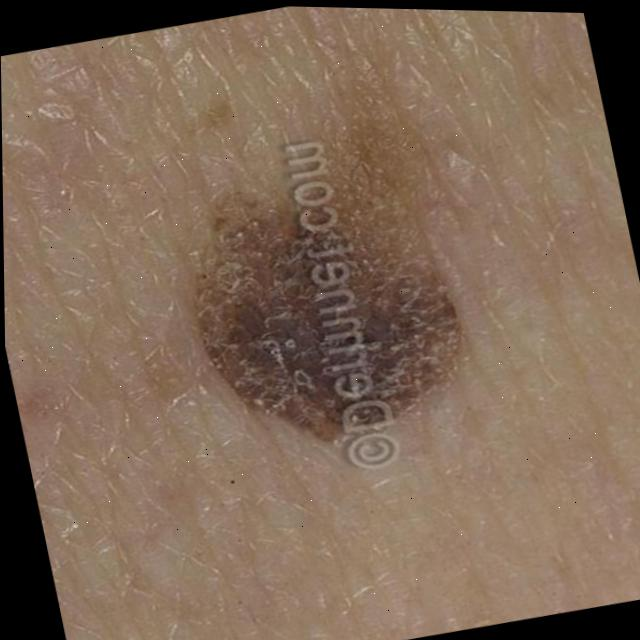Eczema: (209, 223, 468, 407)
